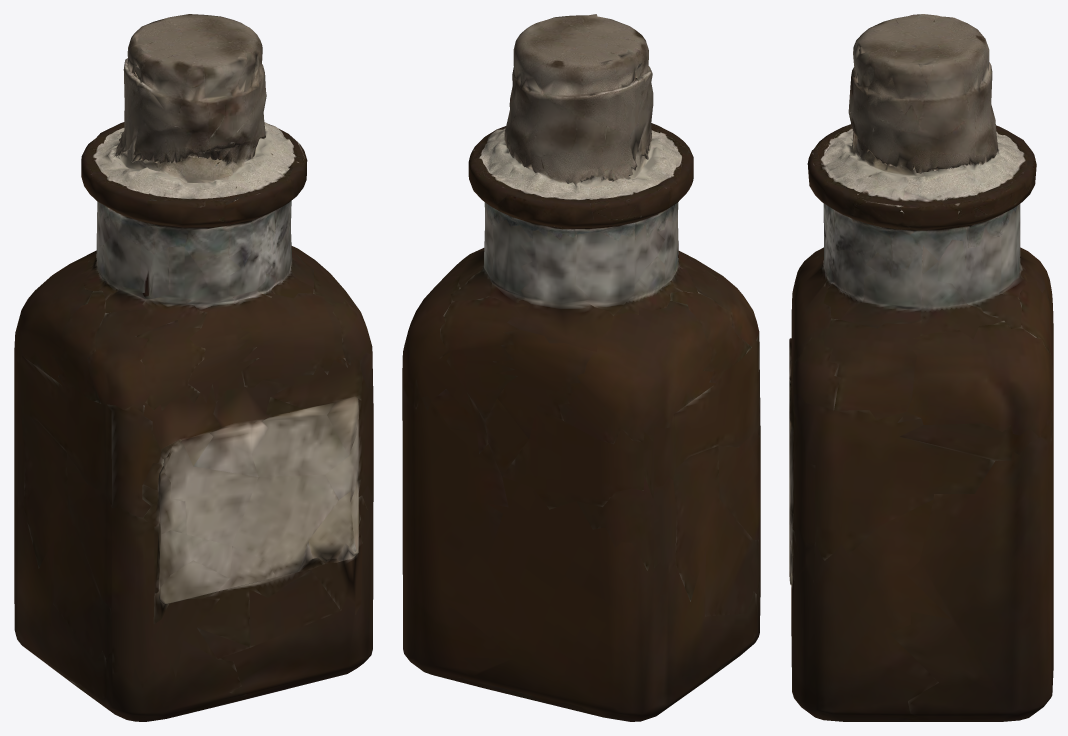
File: salts.403717e9.glb
The picture shows the model from 3 angles, left to right: view 1: azimuth 30°, elevation 25°; view 2: azimuth 150°, elevation 25°; view 3: azimuth 270°, elevation 25°; orthographic projection.
Visible parts, largest first — view 1: item; view 2: item; view 3: item.
Boxes of the visible parts, x1=… form: item: x1=14, y1=14, x2=373, y2=721; item: x1=402, y1=14, x2=760, y2=721; item: x1=789, y1=14, x2=1053, y2=721.
Size of the model in its own units: 0.0408 by 0.0916 by 0.035.
1 material, 1 textured.
